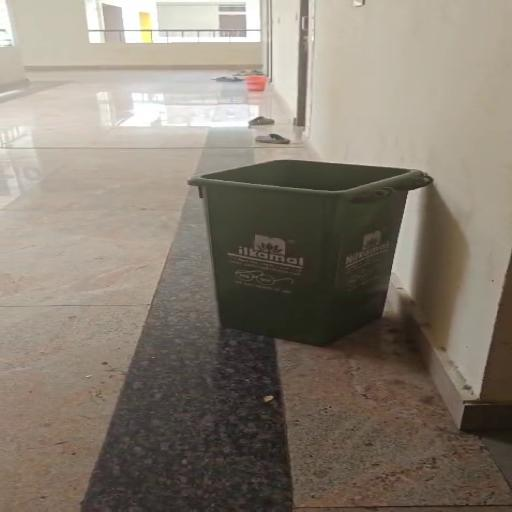Nilkamal-dustbin-detection: (189, 160, 431, 345)
